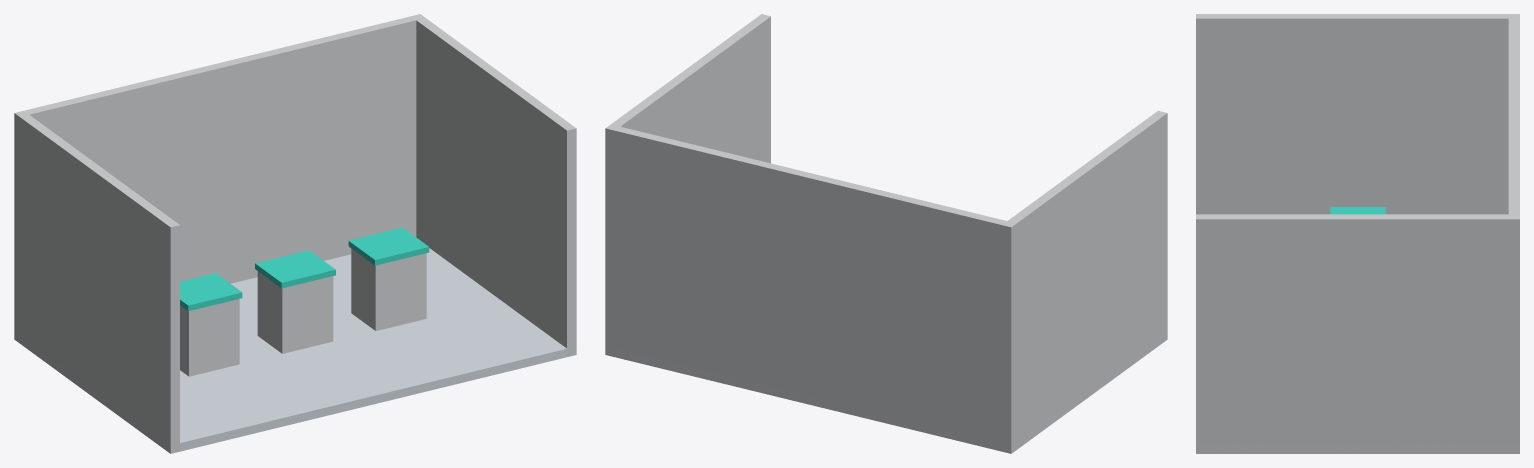
3 renders of one model, left to right at view 1: azimuth 30°, elevation 25°; view 2: azimuth 150°, elevation 25°; view 3: azimuth 270°, elevation 25°, orthographic. The views are drawn at different scales.
Visible parts, largest first — view 1: Exhibition Booth Concept; view 2: Exhibition Booth Concept; view 3: Exhibition Booth Concept.
Part boxes in pixels (x1,y1,x2,y2): Exhibition Booth Concept: [14, 14, 576, 453]; Exhibition Booth Concept: [605, 14, 1167, 453]; Exhibition Booth Concept: [1196, 14, 1519, 453].
Bounding box in the file's own units: 6 × 3.2 × 4.
